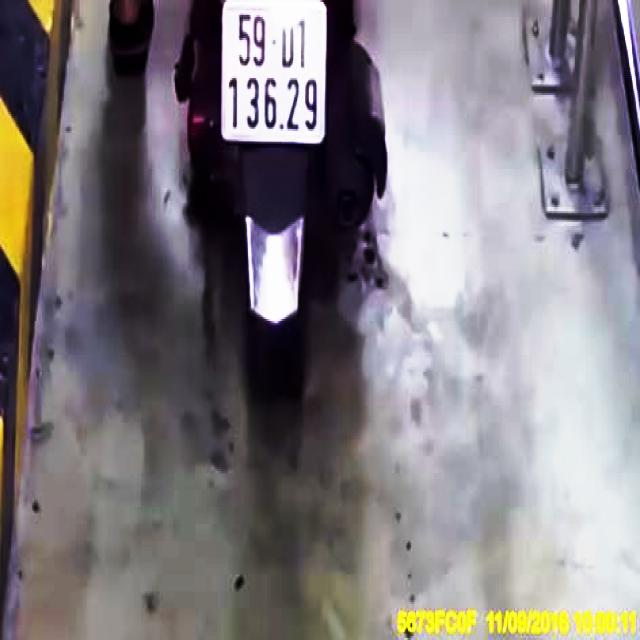license_plate: (221, 1, 327, 146)
